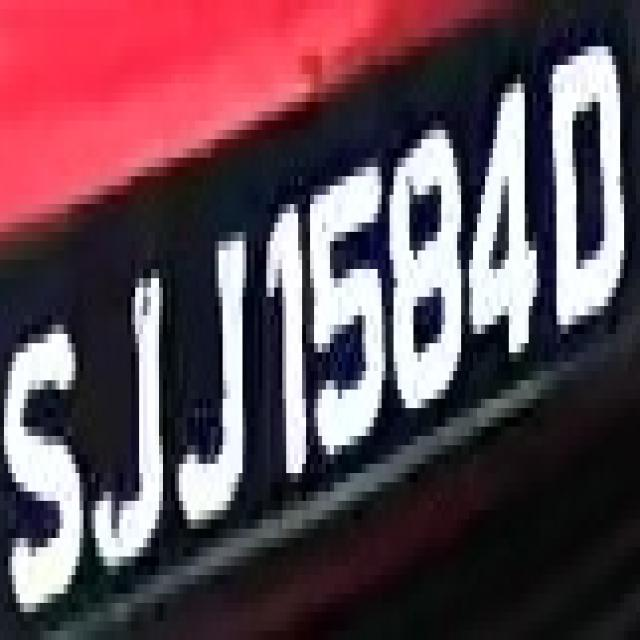1: (270, 139, 314, 547)
4: (453, 37, 545, 408)
5: (302, 148, 394, 473)
8: (378, 102, 469, 436)
D: (541, 37, 632, 362)
J: (79, 251, 175, 594), (167, 214, 254, 556)
S: (12, 297, 87, 640)
